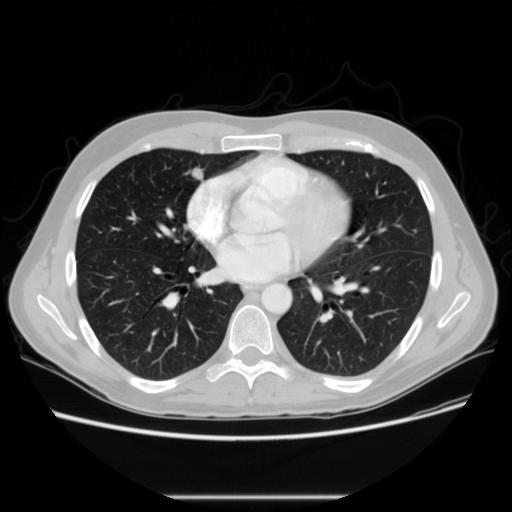nodule: (188, 164, 206, 182)
